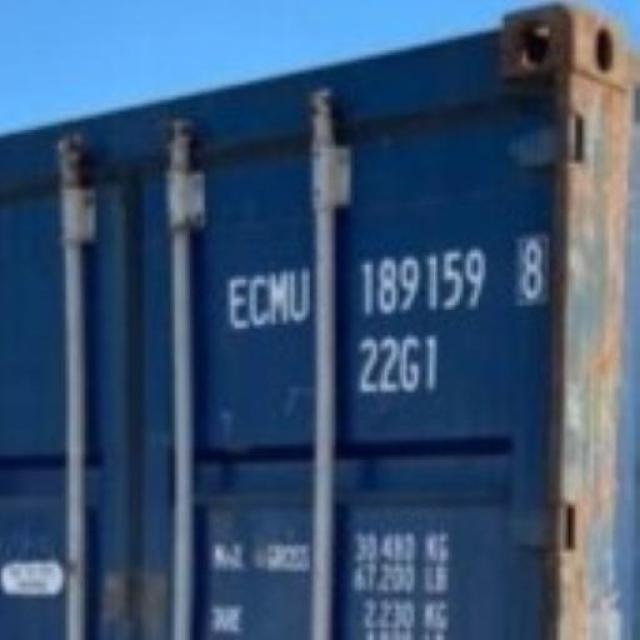ISO: (360, 336, 448, 392)
container_number: (225, 234, 552, 332)
